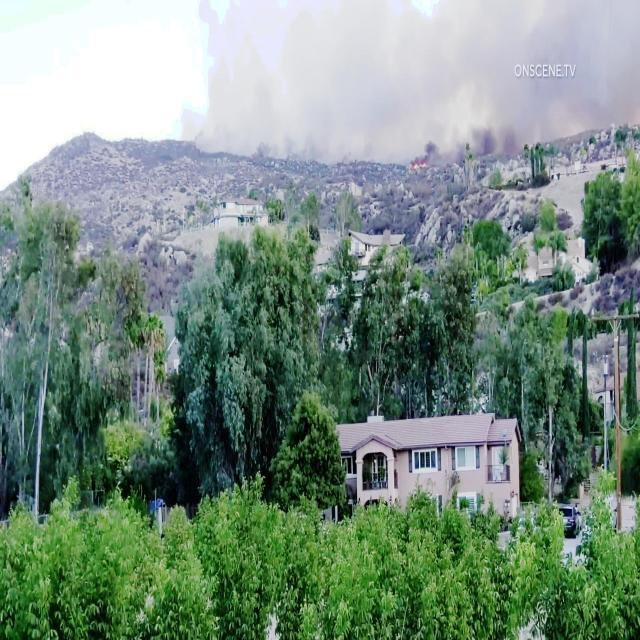Fire: (408, 157, 432, 170)
Smoke: (202, 0, 640, 131)
